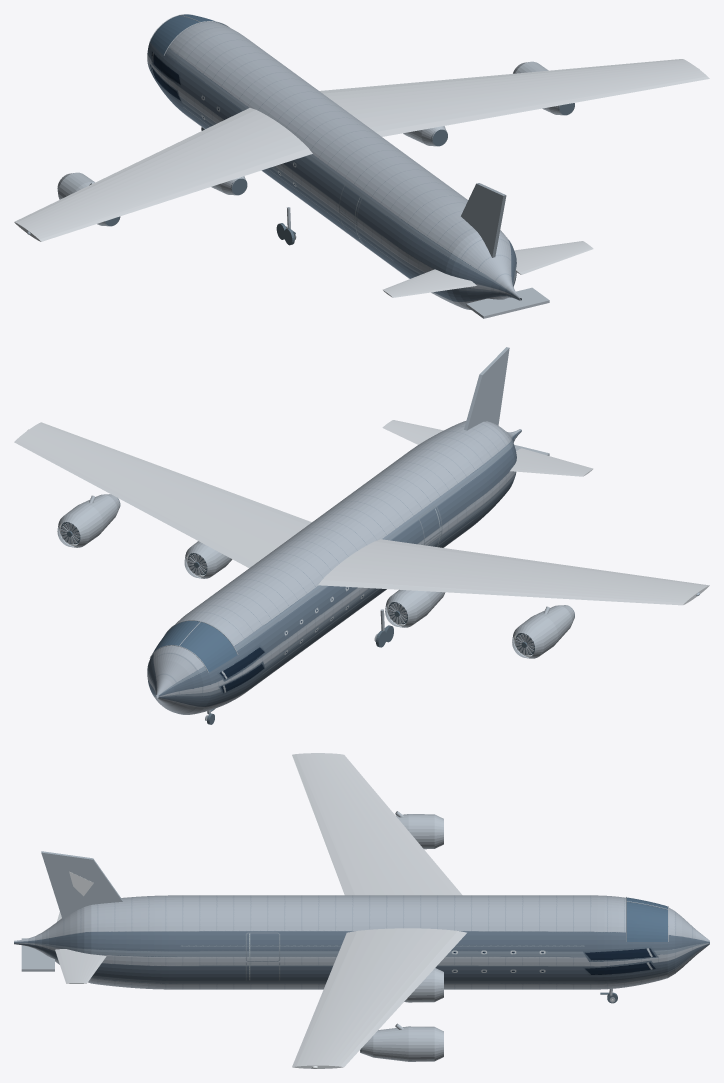
The model's file is 04_heavy_cargo.glb.
The picture shows the model from 3 angles, top to bottom: view 1: azimuth 30°, elevation 25°; view 2: azimuth 150°, elevation 25°; view 3: azimuth 270°, elevation 25°; orthographic projection. The views are drawn at different scales.
Visible parts, largest first — view 1: textured_airframe, body-details, metal-details, accent-details, glass-details, dark-details; view 2: textured_airframe, body-details, metal-details, glass-details, accent-details, dark-details; view 3: textured_airframe, body-details, metal-details, accent-details, glass-details.
Boxes of the visible parts, x1,y1,x2,y2 form: textured_airframe: [147, 21, 521, 309]; body-details: [14, 59, 709, 297]; metal-details: [57, 14, 574, 318]; accent-details: [27, 183, 506, 257]; glass-details: [150, 14, 224, 55]; dark-details: [104, 103, 574, 226]; textured_airframe: [147, 421, 521, 714]; body-details: [14, 420, 709, 605]; metal-details: [57, 445, 574, 672]; glass-details: [152, 621, 237, 672]; accent-details: [464, 347, 699, 595]; dark-details: [60, 499, 574, 655]; textured_airframe: [14, 895, 709, 989]; body-details: [55, 753, 466, 1068]; metal-details: [21, 811, 668, 1061]; accent-details: [41, 851, 122, 919]; glass-details: [626, 897, 667, 941].
Bounding box in the file's own units: 51.26 × 11.63 × 48.
Materials: 10 (1 with a texture image).
